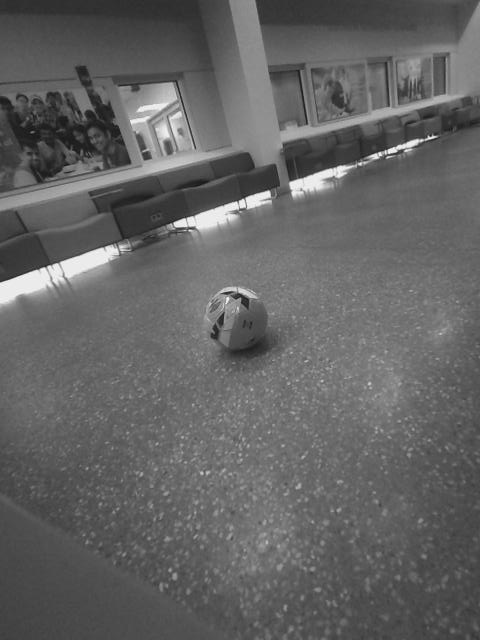ball: (195, 284, 275, 359)
